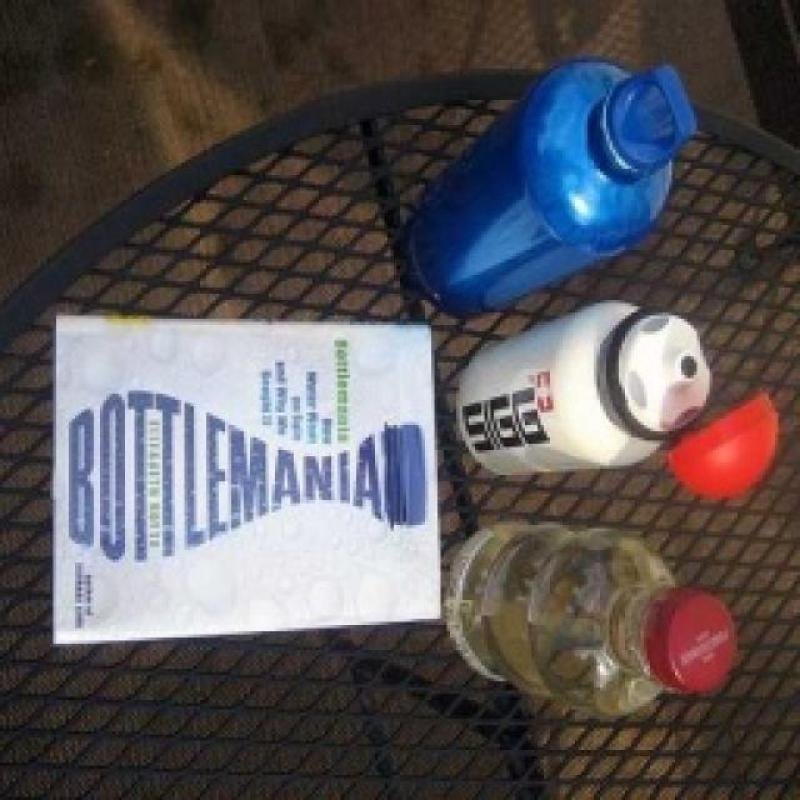botella: (446, 518, 740, 718)
